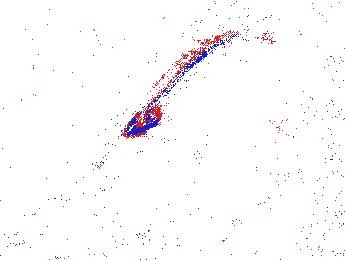glassfish: (119, 16, 253, 141)
siberian prawn: (134, 192, 257, 250), (18, 209, 143, 242)
